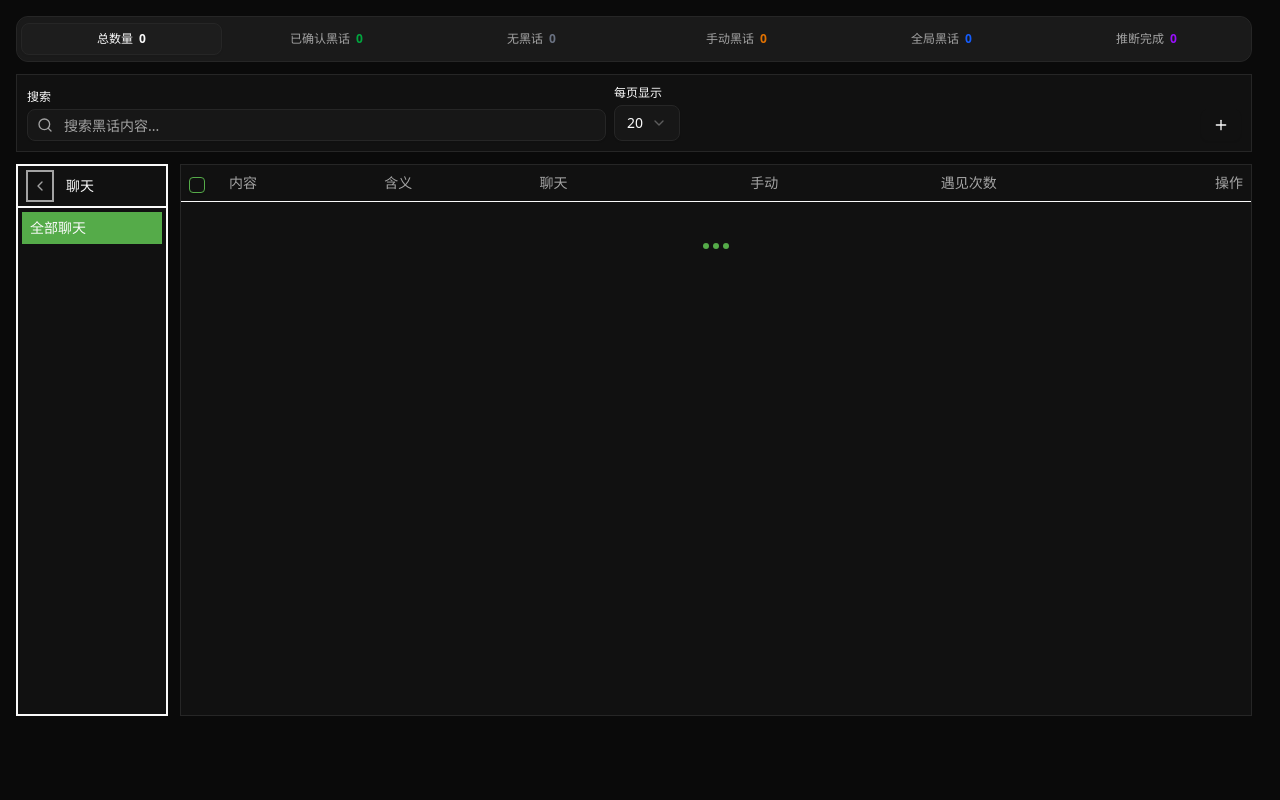
Scenario: JargonManagementPage 黑话管理页 › 创建对话框 › 点击新增按钮打开创建对话框
The image size is (1280, 800).
Click the button named "新增黑话" at (1221, 125), box [1201,109,1241,141]
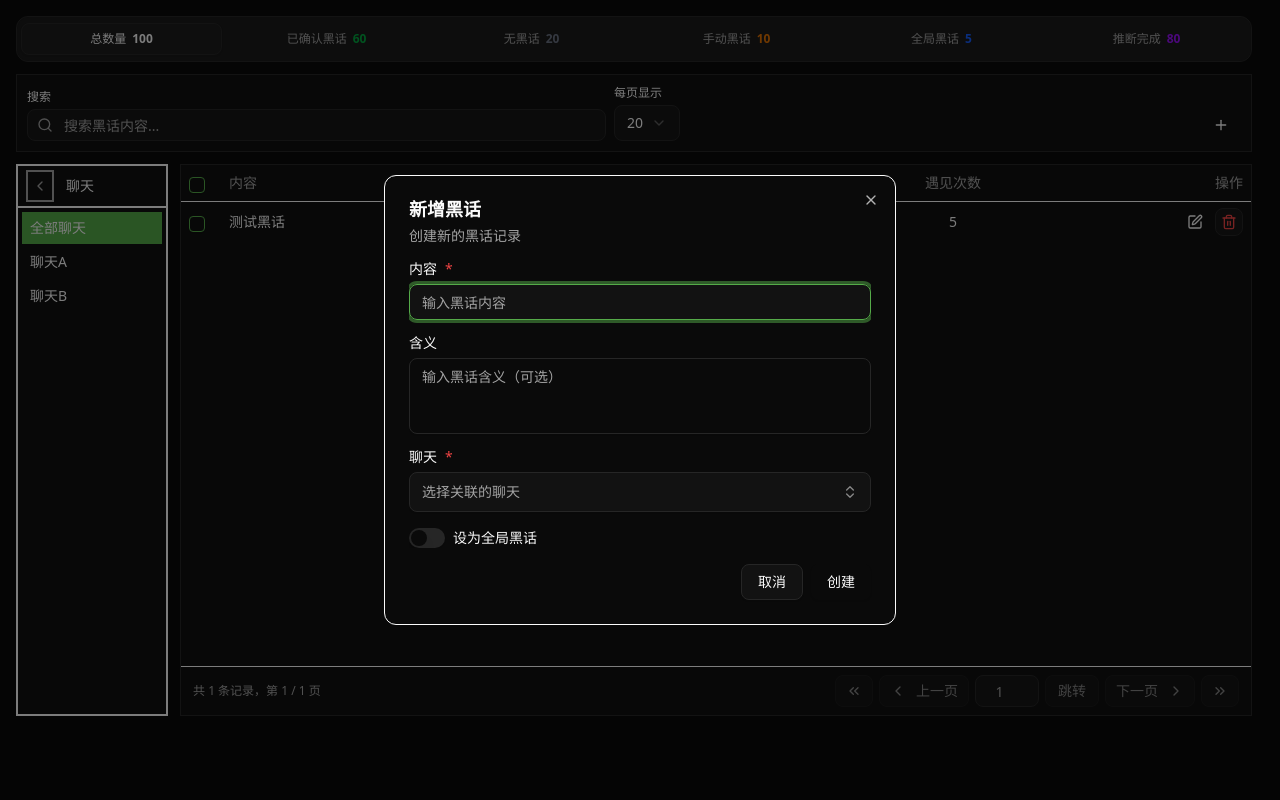
Result: the heading "新增黑话" is shown at [409,197,481,221]
